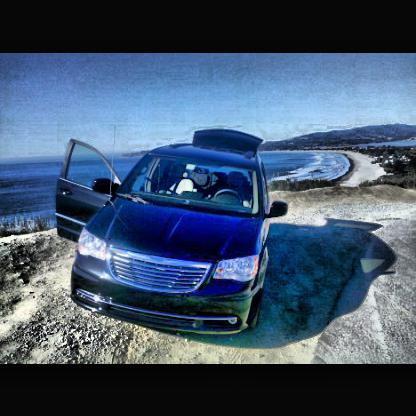Chrysler Town and Country Minivan 2012: (56, 127, 290, 337)
